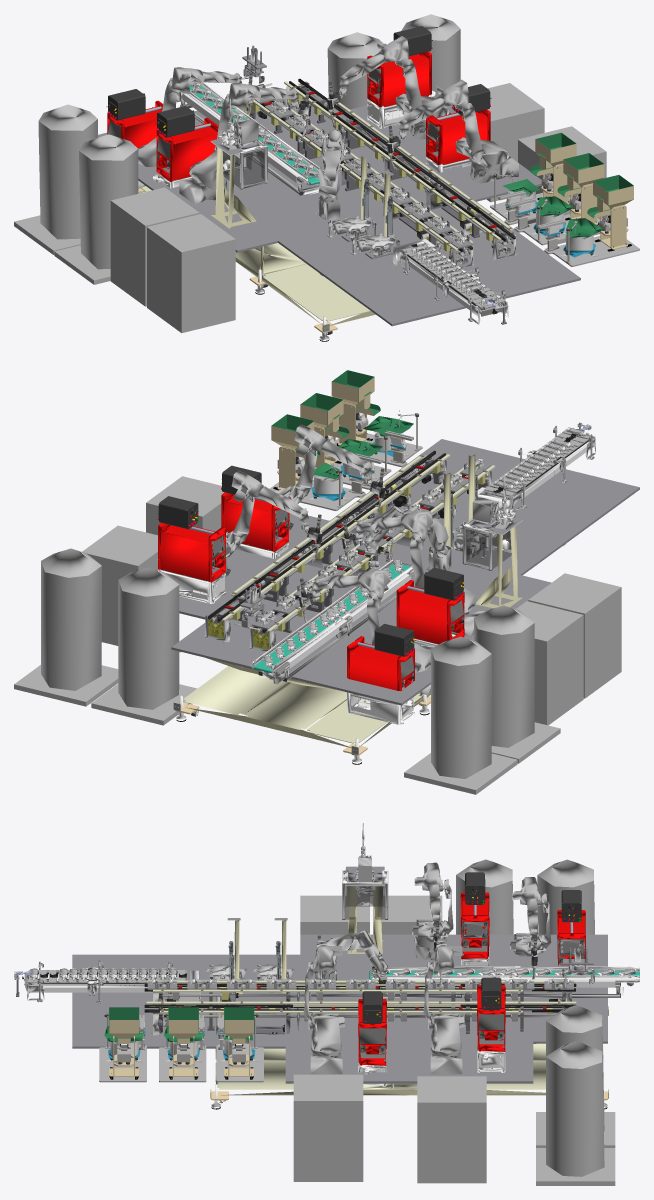
The model's file is cell_weld.glb.
The picture shows the model from 3 angles, top to bottom: view 1: azimuth 30°, elevation 25°; view 2: azimuth 150°, elevation 25°; view 3: azimuth 270°, elevation 25°; orthographic projection. The views are drawn at different scales.
Visible parts, largest first — view 1: part12, part3, part57, part1, part8, part35, part6, part33, part0, part44, part45, part18 (+12 smaller); view 2: part12, part3, part57, part1, part8, part6, part35, part0, part33, part45, part44, part18 (+10 smaller); view 3: part12, part3, part1, part8, part57, part35, part6, part18, part0, part45, part40, part33 (+10 smaller).
Boxes of the visible parts, <box> form: part12: <box>14,14,639,333</box>; part3: <box>98,45,580,331</box>; part57: <box>107,51,490,181</box>; part1: <box>141,81,512,321</box>; part8: <box>152,83,507,309</box>; part35: <box>535,139,633,249</box>; part6: <box>106,26,608,334</box>; part33: <box>503,132,633,237</box>; part0: <box>138,146,390,331</box>; part44: <box>246,85,513,264</box>; part45: <box>258,78,515,261</box>; part18: <box>108,64,506,324</box>; part12: <box>14,423,621,794</box>; part3: <box>171,422,639,754</box>; part57: <box>158,492,464,690</box>; part1: <box>183,454,495,743</box>; part8: <box>158,427,587,724</box>; part6: <box>158,427,464,755</box>; part35: <box>271,377,374,489</box>; part0: <box>174,454,522,753</box>; part33: <box>271,370,413,479</box>; part45: <box>208,450,468,642</box>; part44: <box>208,459,487,648</box>; part18: <box>161,429,590,689</box>; part12: <box>14,823,639,1185</box>; part3: <box>16,866,607,1083</box>; part1: <box>146,980,603,1089</box>; part8: <box>31,846,639,1086</box>; part57: <box>358,892,585,1065</box>; part35: <box>109,1020,253,1076</box>; part6: <box>110,872,581,1103</box>; part18: <box>16,921,594,1063</box>; part0: <box>210,886,608,1098</box>; part45: <box>144,983,576,1031</box>; part40: <box>162,992,565,1021</box>; part33: <box>104,1007,254,1042</box>.
Bounding box in the file's own units: 5.08 × 2.18 × 6.31.
